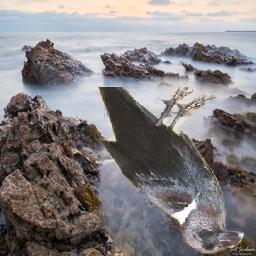Crow: (98, 88, 245, 255)
